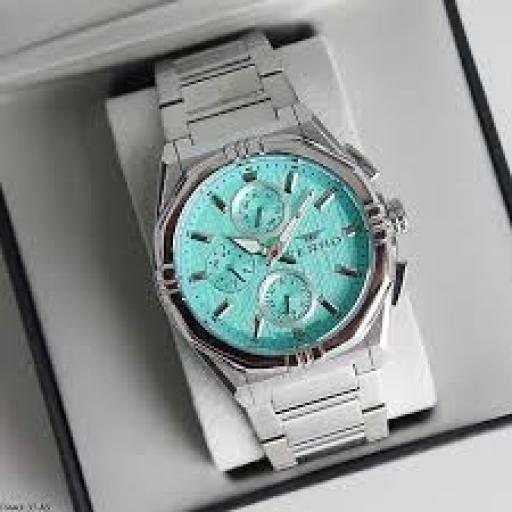KolSaati: (72, 27, 448, 447)
